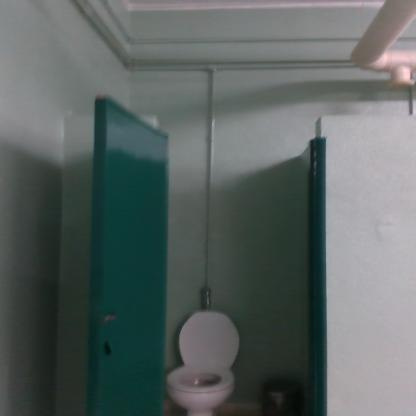open: (74, 95, 387, 416)
